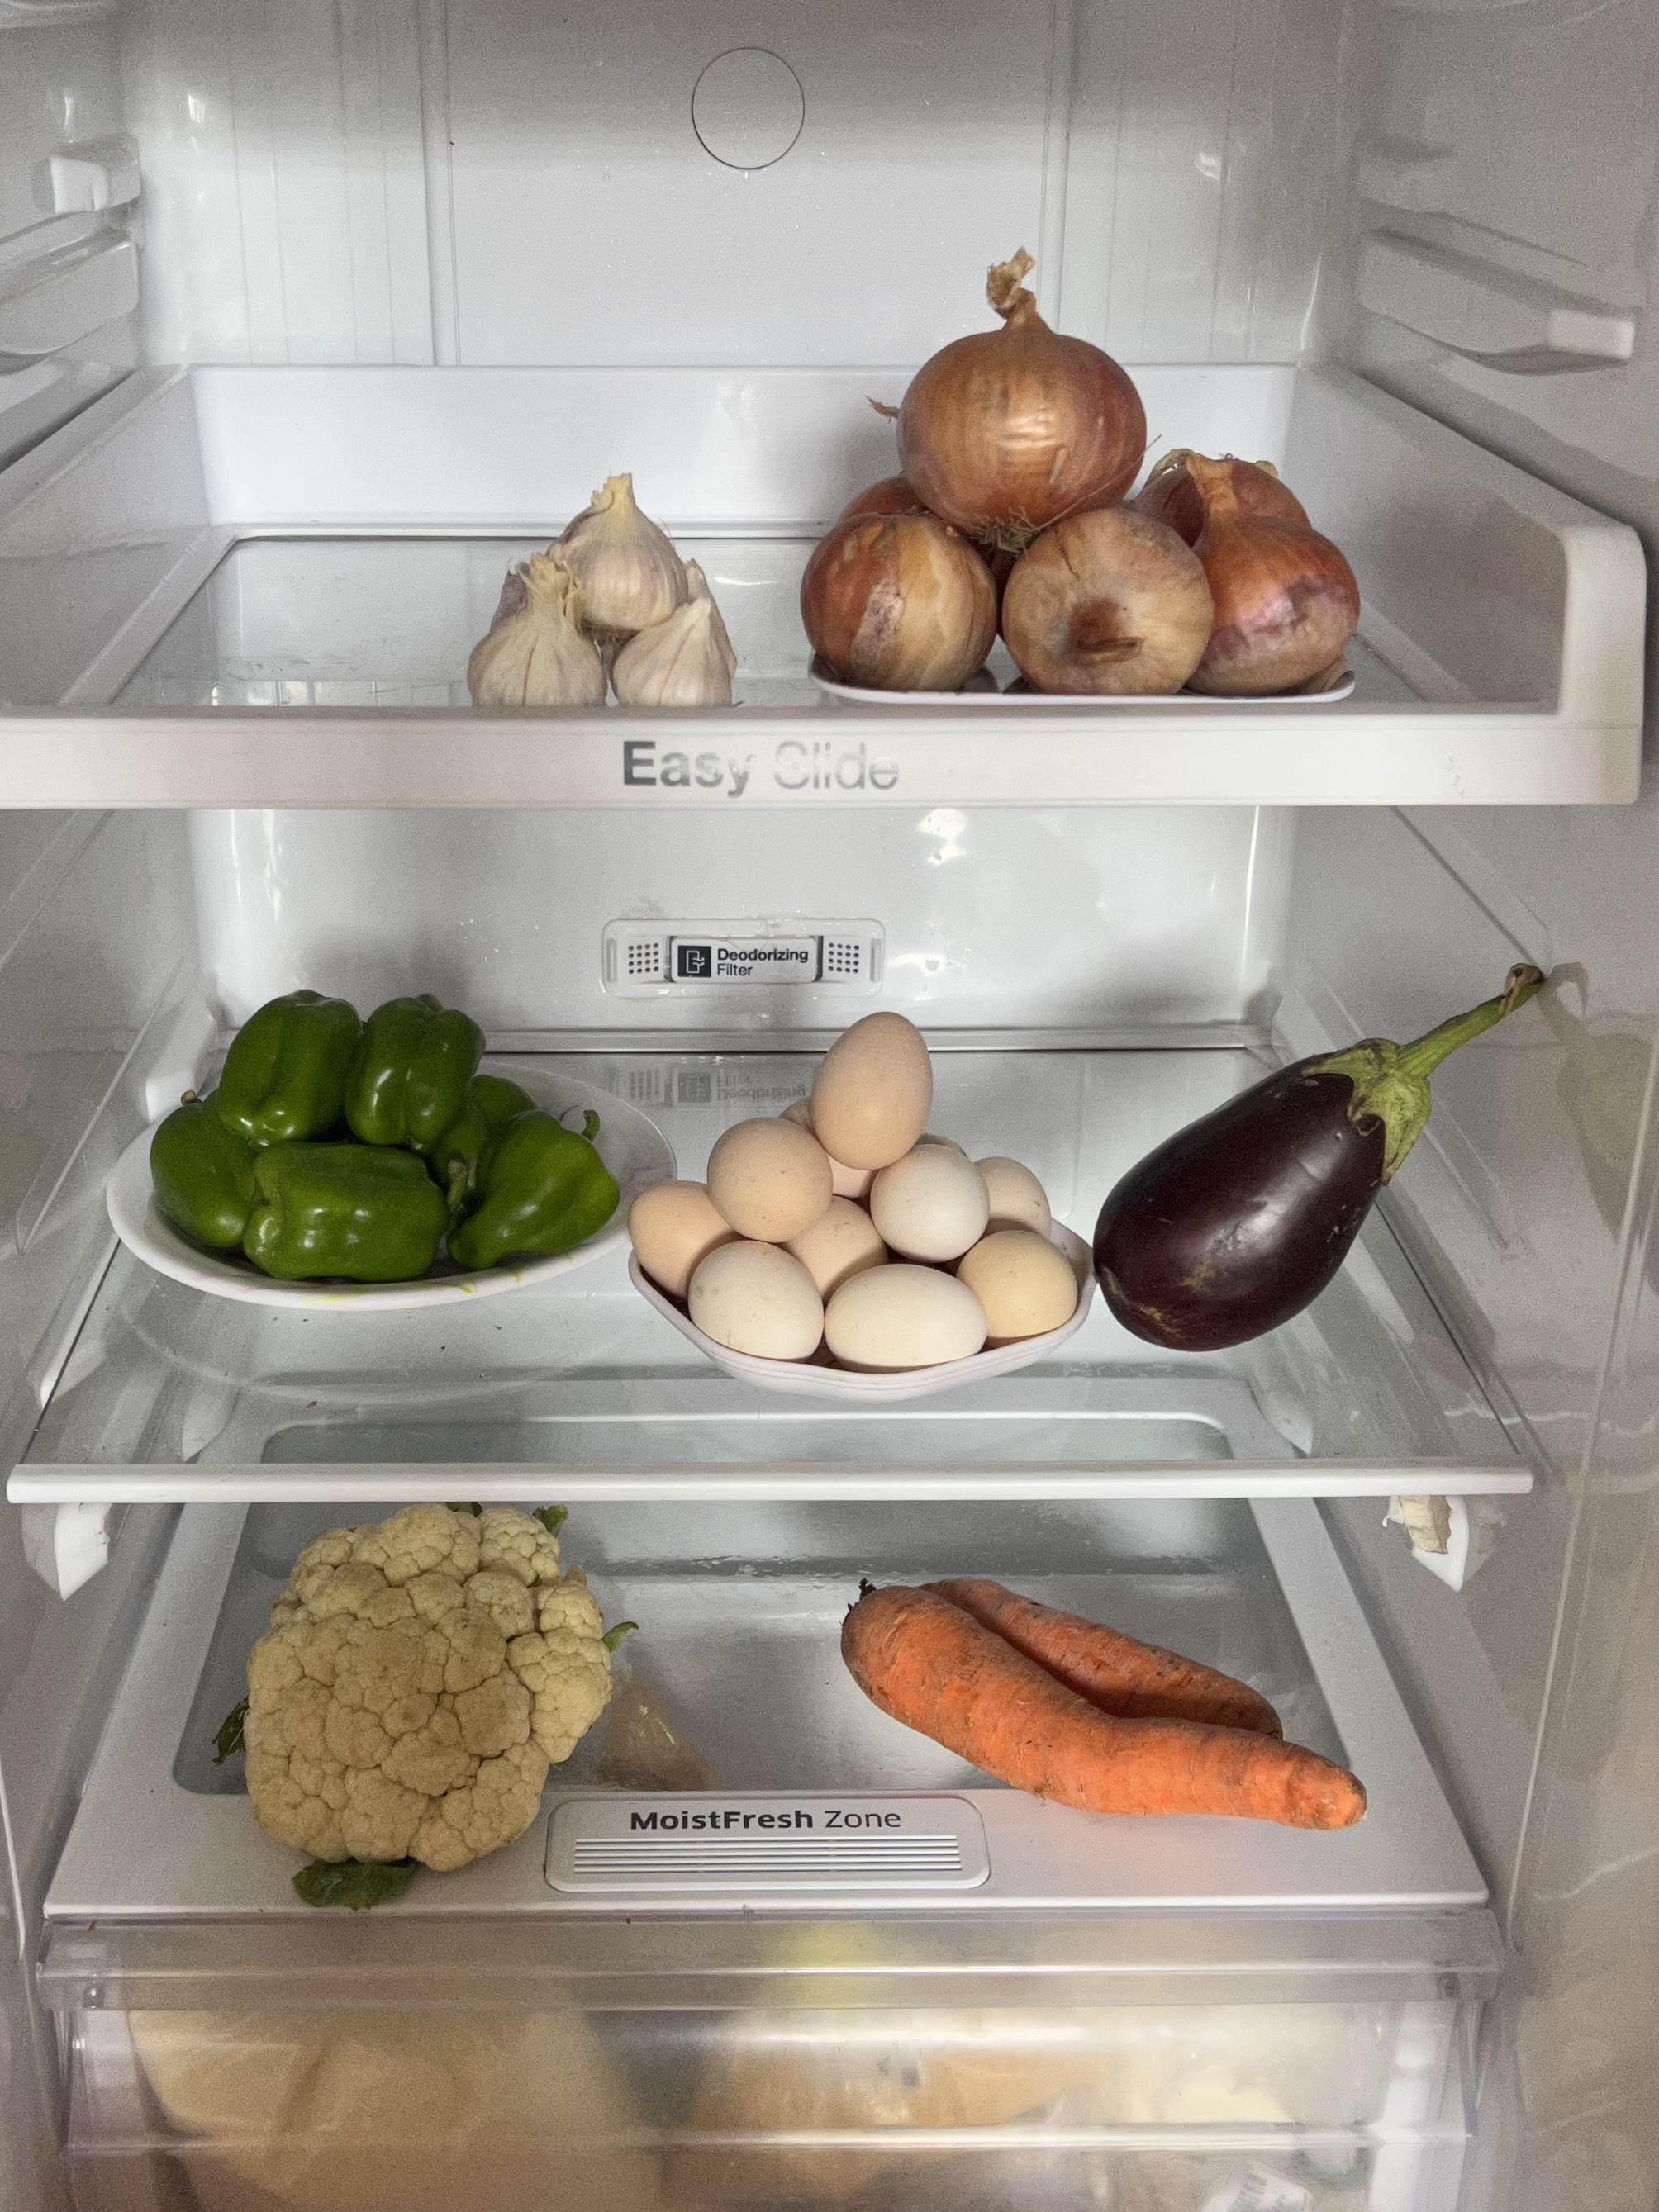bringal: (1098, 1014, 1485, 1348)
capsicum: (146, 982, 608, 1285)
carrots: (847, 1573, 1356, 1822)
cauliflower: (240, 1501, 598, 1867)
egg: (634, 1017, 1079, 1371)
garlic: (471, 470, 732, 707)
onion: (802, 320, 1358, 697)
